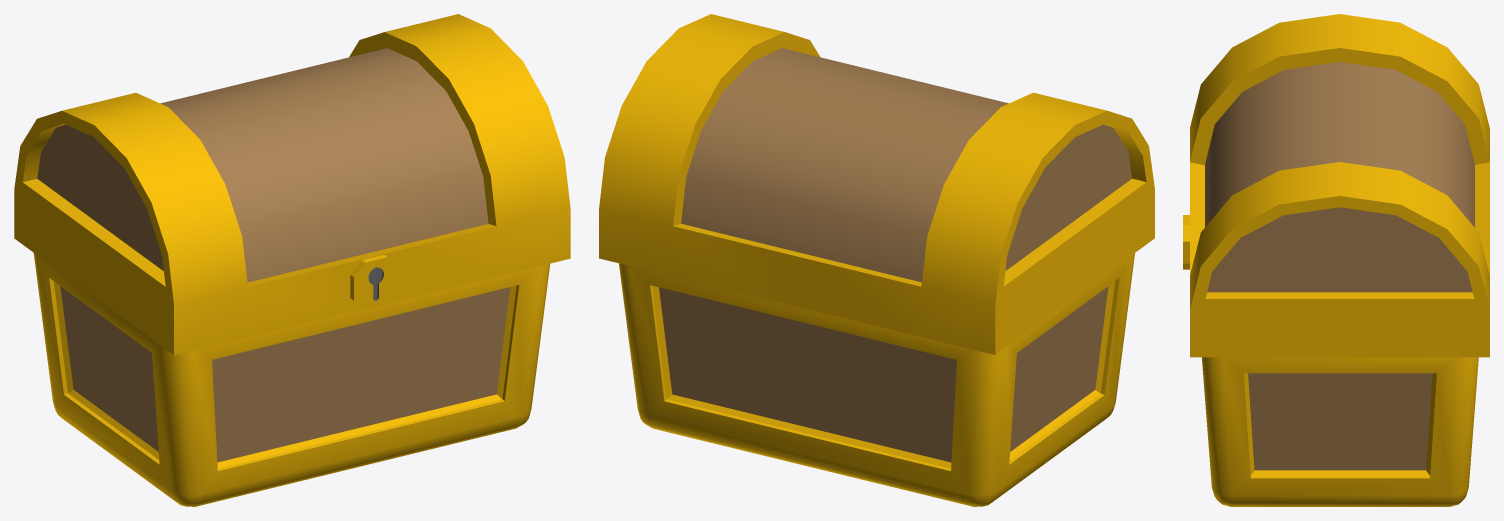
File: Chest_2.fbx
The picture shows the model from 3 angles, left to right: view 1: azimuth 30°, elevation 25°; view 2: azimuth 150°, elevation 25°; view 3: azimuth 270°, elevation 25°; orthographic projection. The views are drawn at different scales.
Visible parts, largest first — view 1: Chest_2 Door, Chest_2; view 2: Chest_2 Door, Chest_2; view 3: Chest_2 Door, Chest_2.
Part boxes in pixels (x1,y1,x2,y2): Chest_2 Door: [14, 14, 570, 355]; Chest_2: [33, 253, 550, 506]; Chest_2 Door: [599, 14, 1154, 354]; Chest_2: [619, 253, 1134, 506]; Chest_2 Door: [1183, 14, 1489, 357]; Chest_2: [1201, 357, 1478, 506].
Bounding box in the file's own units: 0.295 × 0.247 × 0.2103.
